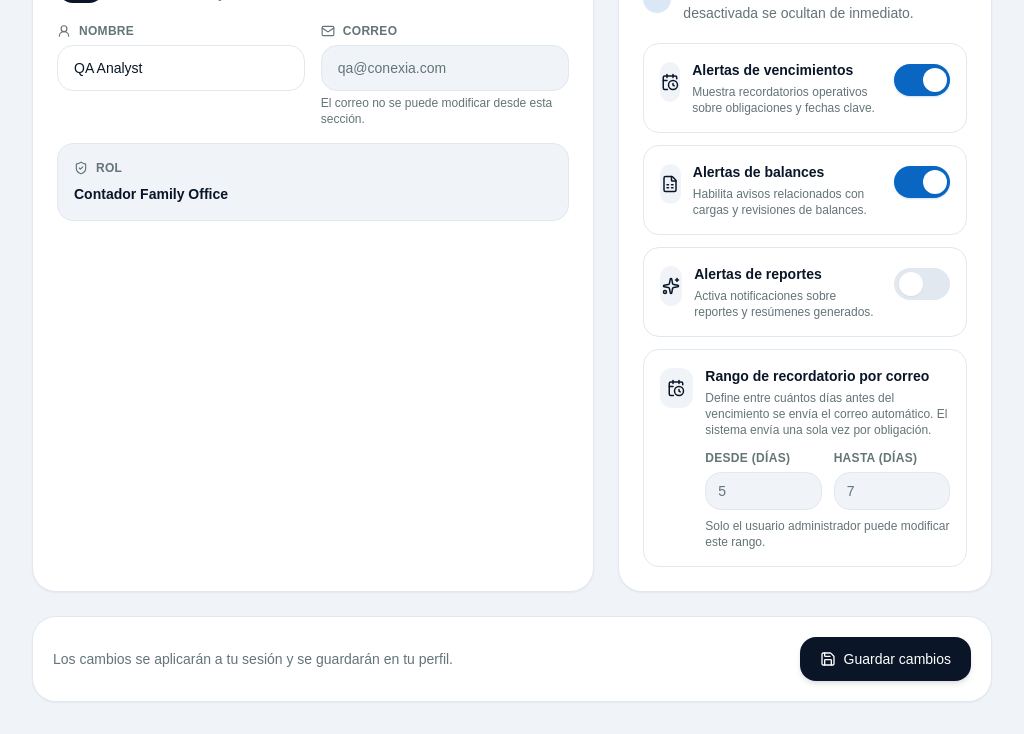
Test: SettingsPage › recupera el usuario si guardar falla
(page scrolled)
Click the button "Guardar cambios": (885, 659) [800, 637, 971, 681]
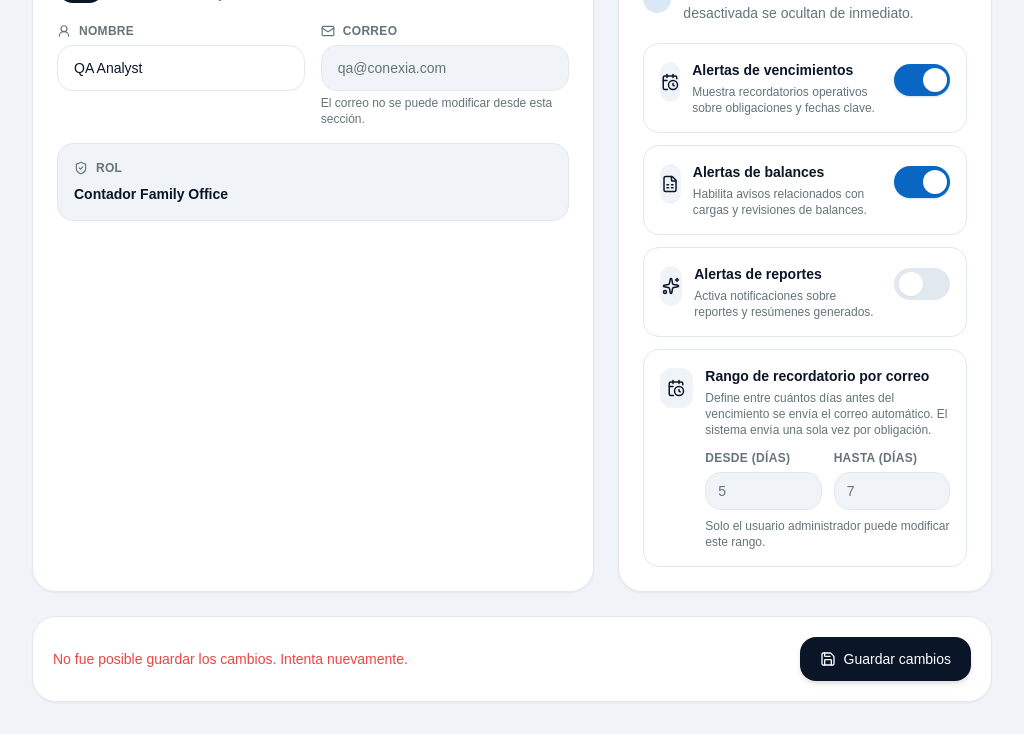
Check: the text "No fue posible guardar los cambios. Intenta nuevamente." is shown, box [53, 649, 408, 669]
